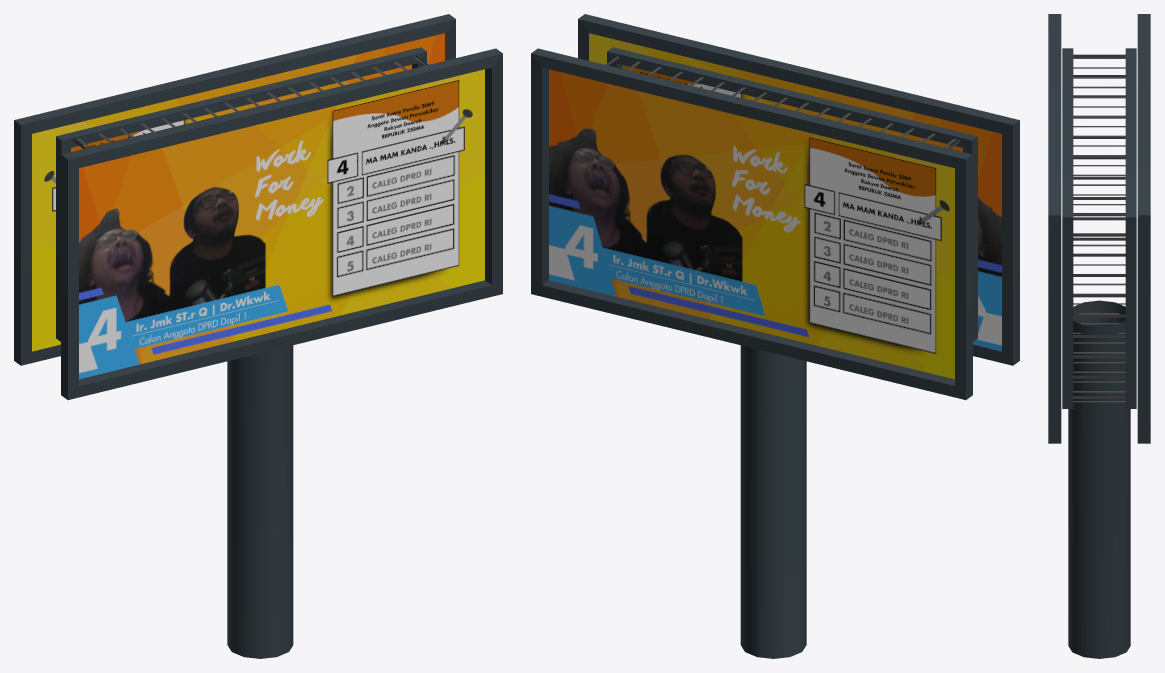
The model's file is Paslon4.fbx.
3 renders of one model, left to right at view 1: azimuth 30°, elevation 25°; view 2: azimuth 150°, elevation 25°; view 3: azimuth 270°, elevation 25°, orthographic. The views are drawn at different scales.
Parts seen in each view (by area): view 1: Cylinder.002; view 2: Cylinder.002; view 3: Cylinder.002.
Boxes of the visible parts, bbox=[...] form: Cylinder.002: bbox=[14, 14, 502, 658]; Cylinder.002: bbox=[531, 14, 1019, 658]; Cylinder.002: bbox=[1048, 14, 1150, 658].
Bounding box in the file's own units: 2753 × 3378 × 591.
Materials: 2 (2 with a texture image).
